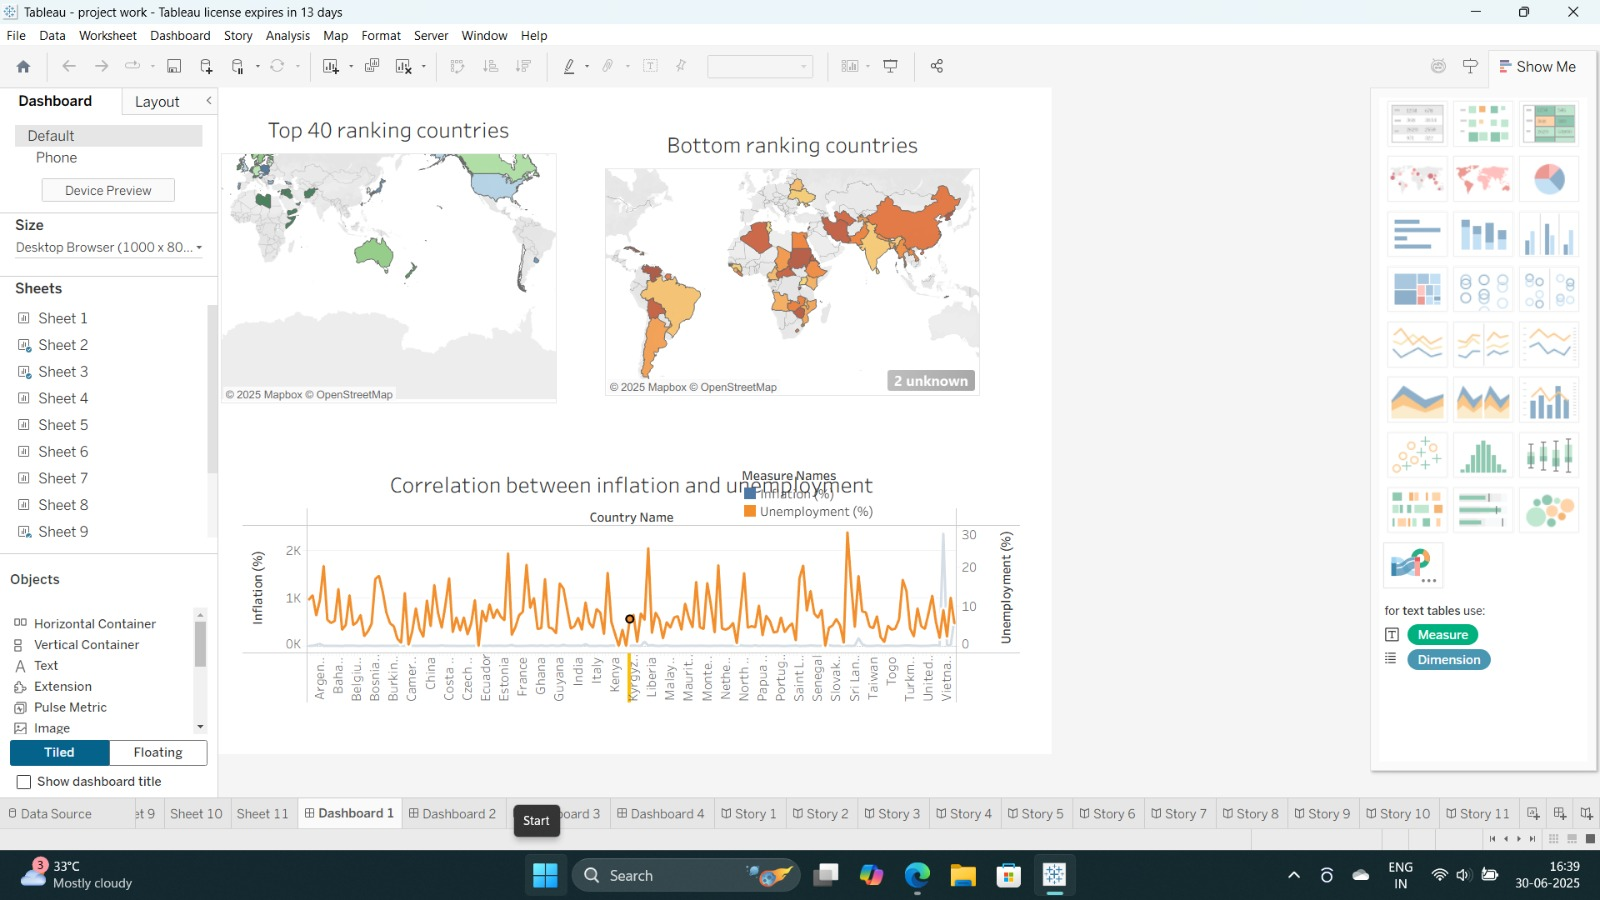

The page's visual inventory and layout, read from the dashboard file:
{"tool":"tableau","page":{"name":"Dashboard 1","canvas":[1000,800],"ordinal":0},"visuals":[{"type":"worksheet","title":"Sheet 2","mark":"Automatic","box":[3,29,403,350]},{"type":"worksheet","title":"Sheet 3","mark":"Automatic","box":[464,47,450,323]},{"type":"worksheet","title":"Sheet 9","mark":"Line","rows":["Inflation (%)","Unemployment (%)"],"cols":["Country Name"],"box":[29,455,934,284]},{"type":"legend","title":"Sheet 9","param":"[federated.1bvdiqv07tdfil12pc6ir0y7xcc5].[:Measure Names]","box":[628,455,163,64]}]}

Visuals, with their boxes on the page's 1000x800 design canvas (x1, y1, x2, y2). These are canvas units, not pixel positions in the 1600x900 screenshot, which may show the page scaled, cropped or inside an application window:
"Sheet 2" worksheet: left=3, top=29, right=406, bottom=379
"Sheet 3" worksheet: left=464, top=47, right=914, bottom=370
"Sheet 9" worksheet (Line marks): left=29, top=455, right=963, bottom=739
"Sheet 9" legend: left=628, top=455, right=791, bottom=519
